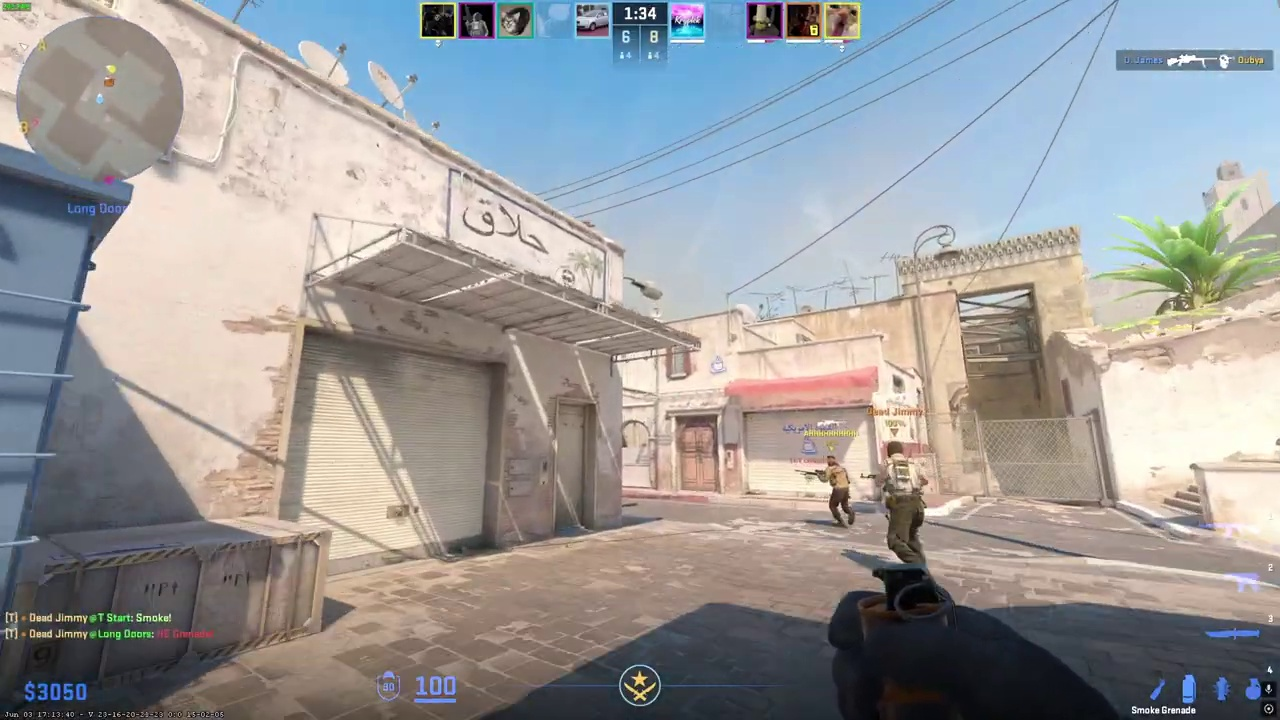Terrorist: (878, 441, 928, 563), (822, 456, 854, 527)
